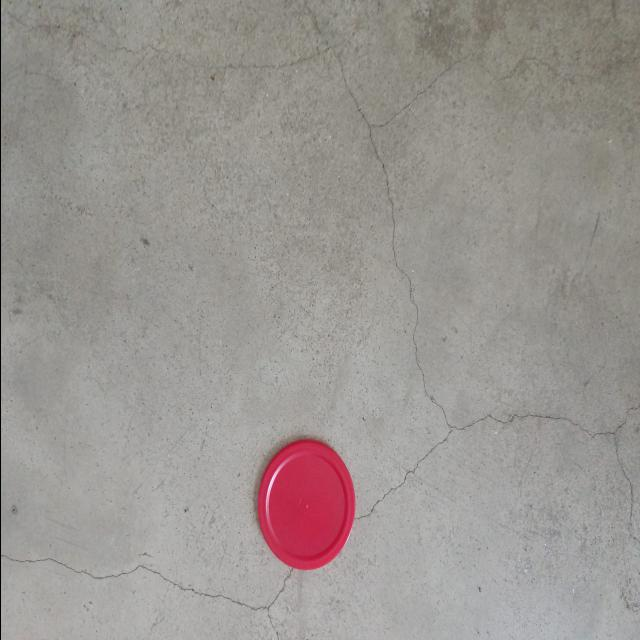chip: (258, 439, 356, 572)
